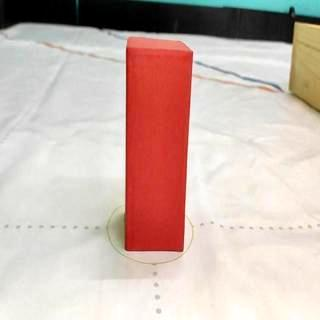redbox: (124, 34, 194, 251)
